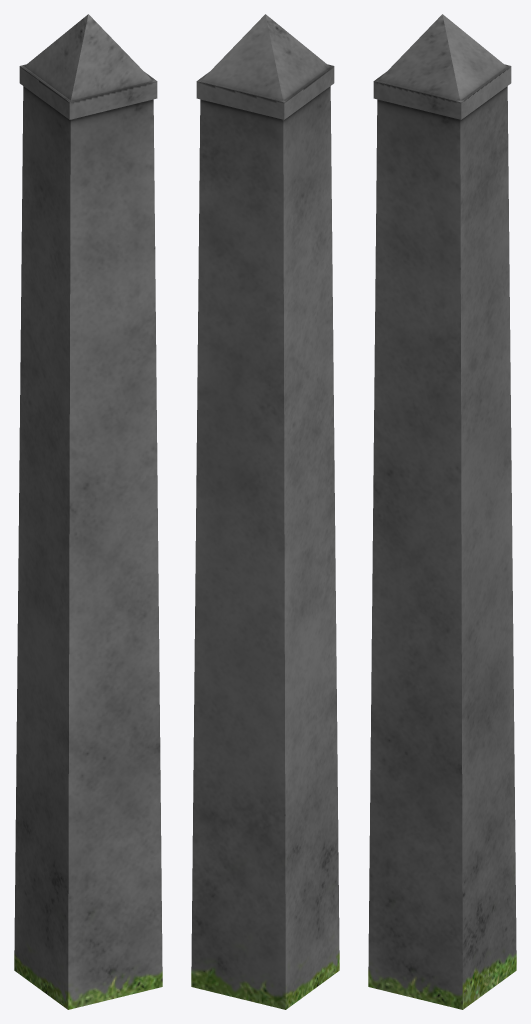
File: Shrine_Obil_01.fbx
The picture shows the model from 3 angles, left to right: view 1: azimuth 30°, elevation 25°; view 2: azimuth 150°, elevation 25°; view 3: azimuth 330°, elevation 25°; orthographic projection.
Parts seen in each view (by area): view 1: pCube1; view 2: pCube1; view 3: pCube1.
Boxes of the visible parts, box(x1,y1,x2,y2) form: pCube1: box(14, 14, 162, 1009); pCube1: box(191, 14, 339, 1009); pCube1: box(368, 14, 516, 1009).
Size of the model in its own units: 2.06 by 20.11 by 2.04.
1 material, 1 textured.
